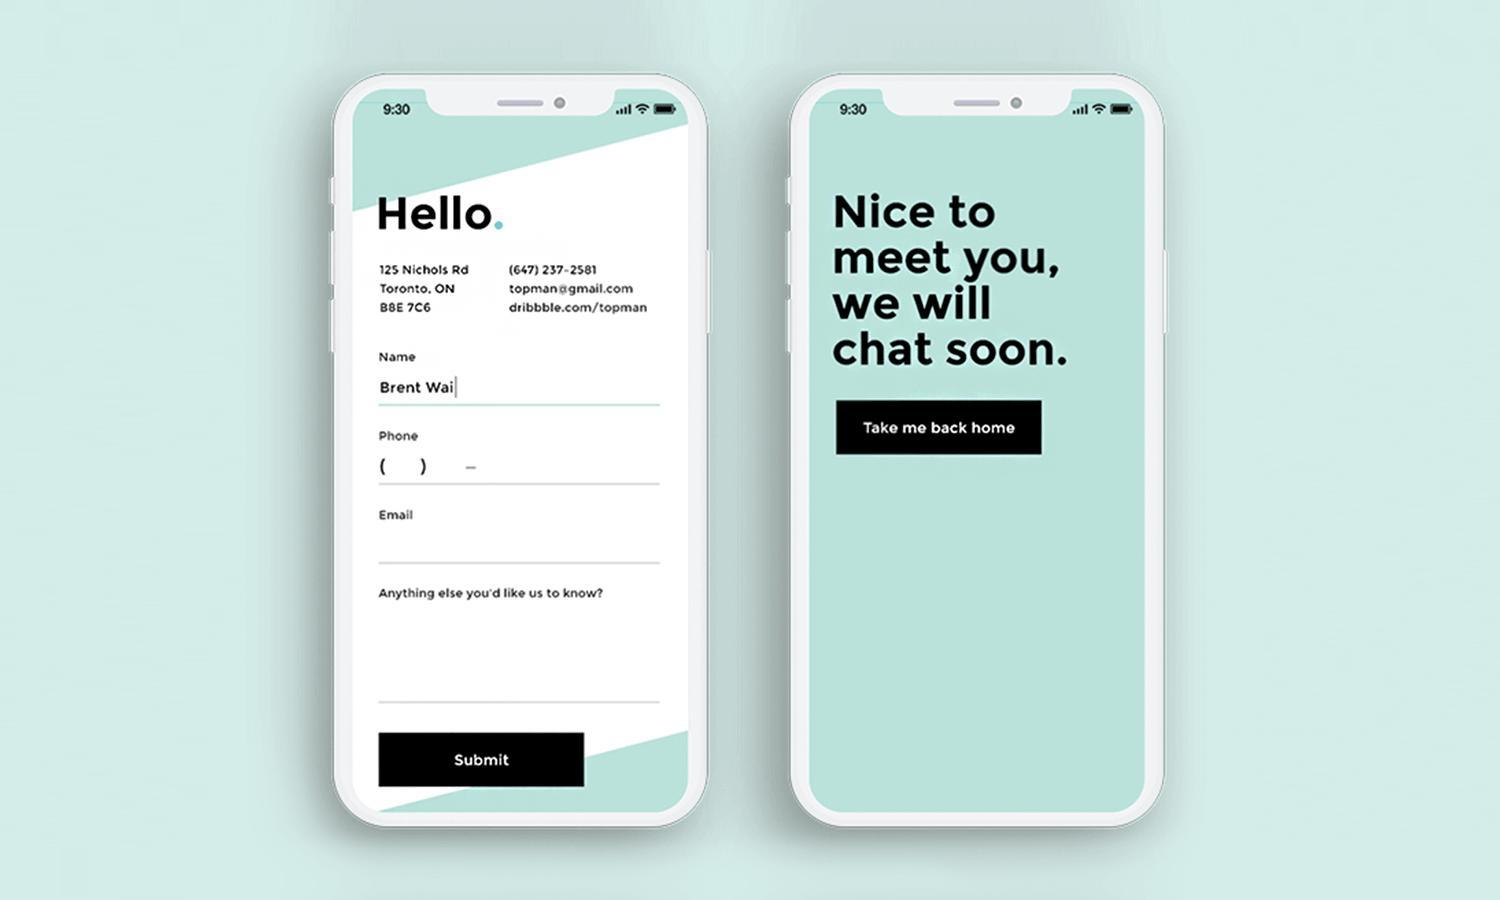button: (376, 730, 589, 793), (836, 400, 1044, 457)
input: (376, 454, 664, 487), (375, 379, 665, 409), (376, 540, 665, 566)
label: (378, 187, 507, 237), (380, 588, 609, 599), (380, 429, 423, 446), (379, 507, 417, 525), (377, 352, 420, 364)
